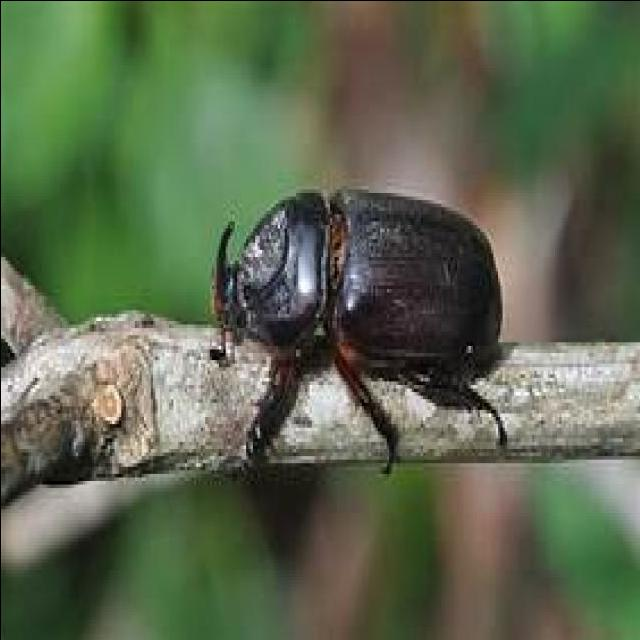Rhino-beetle: (188, 180, 518, 452)
